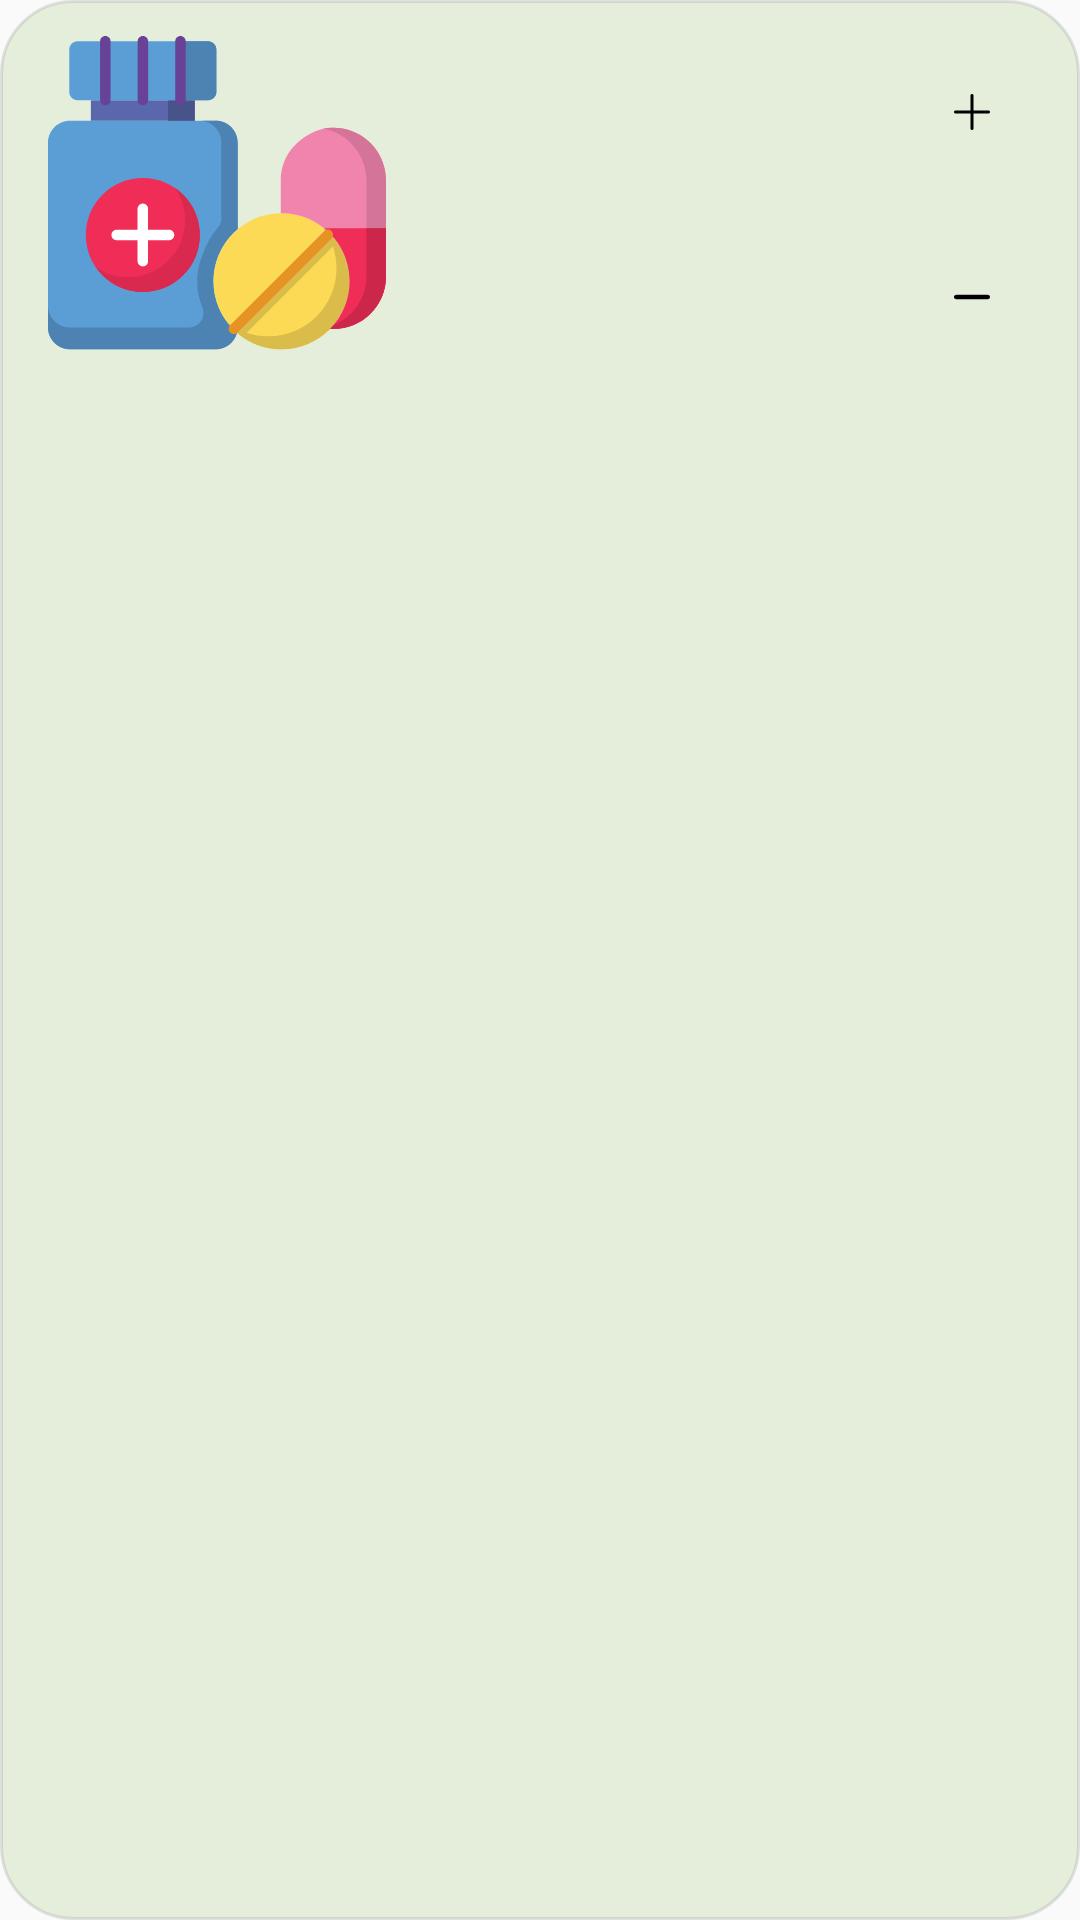

Where to tap for icons on this 1080x1920 app screen, as [x,y]:
add ws: [972,112]
minus ws: [972,297]
paracetamol: [217,193]
